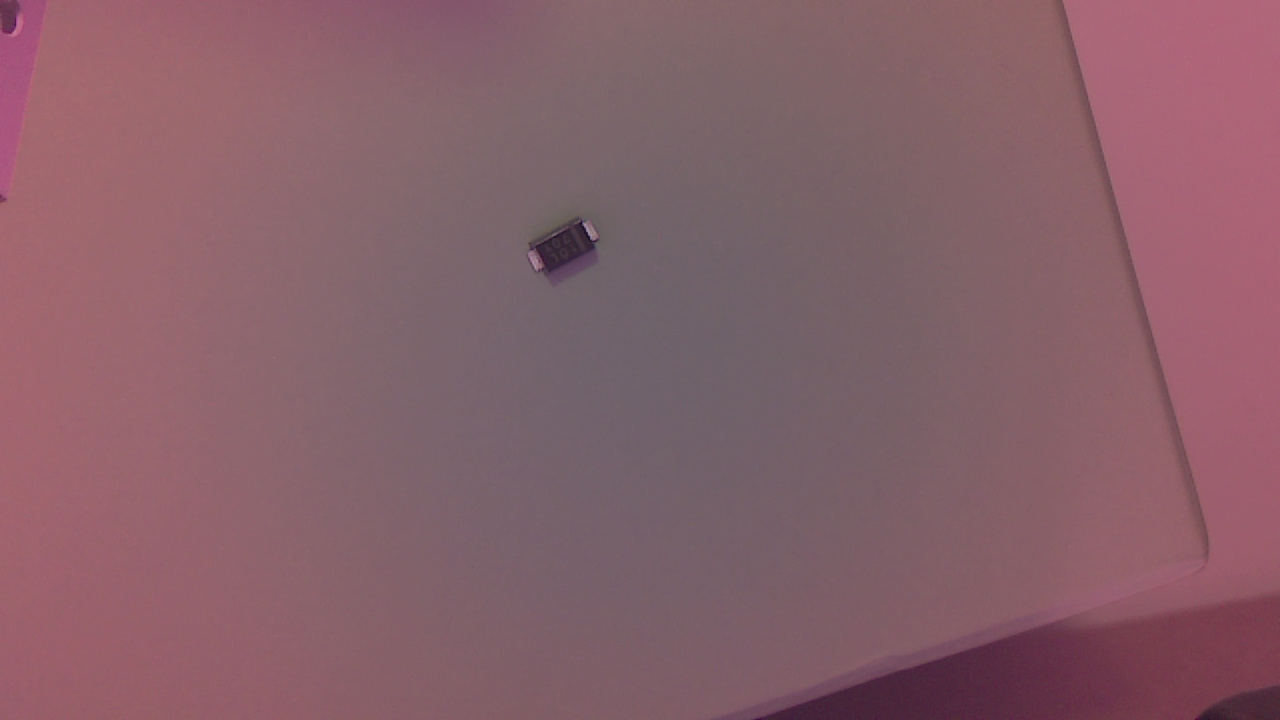Diode: (529, 217, 607, 284)
